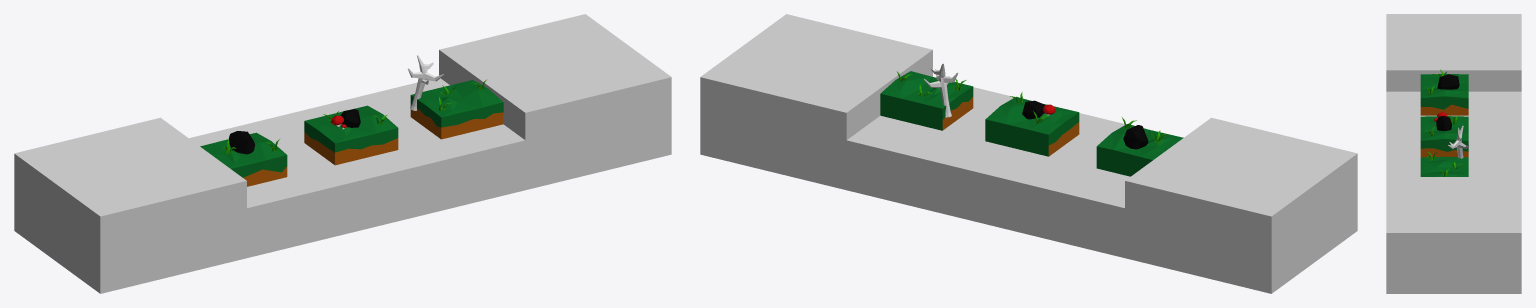
The model's file is Normal_Obstacle_Forest_7.fbx.
The picture shows the model from 3 angles, left to right: view 1: azimuth 30°, elevation 25°; view 2: azimuth 150°, elevation 25°; view 3: azimuth 270°, elevation 25°; orthographic projection. The views are drawn at different scales.
Parts seen in each view (by area): view 1: Cube, Icosphere.003, Snow Long Snow Tree.002; view 2: Cube, Icosphere.003, Snow Long Snow Tree.002; view 3: Cube, Icosphere.003, Snow Long Snow Tree.002.
Part boxes in pixels (x1,y1,x2,y2): Cube: (14, 14, 671, 293); Icosphere.003: (200, 79, 503, 186); Snow Long Snow Tree.002: (408, 55, 443, 110); Cube: (700, 14, 1357, 293); Icosphere.003: (880, 71, 1183, 176); Snow Long Snow Tree.002: (924, 63, 958, 117); Cube: (1386, 14, 1521, 293); Icosphere.003: (1420, 69, 1468, 176); Snow Long Snow Tree.002: (1448, 126, 1469, 158).
Size of the model in its own units: 10231 by 1942 by 2676.
